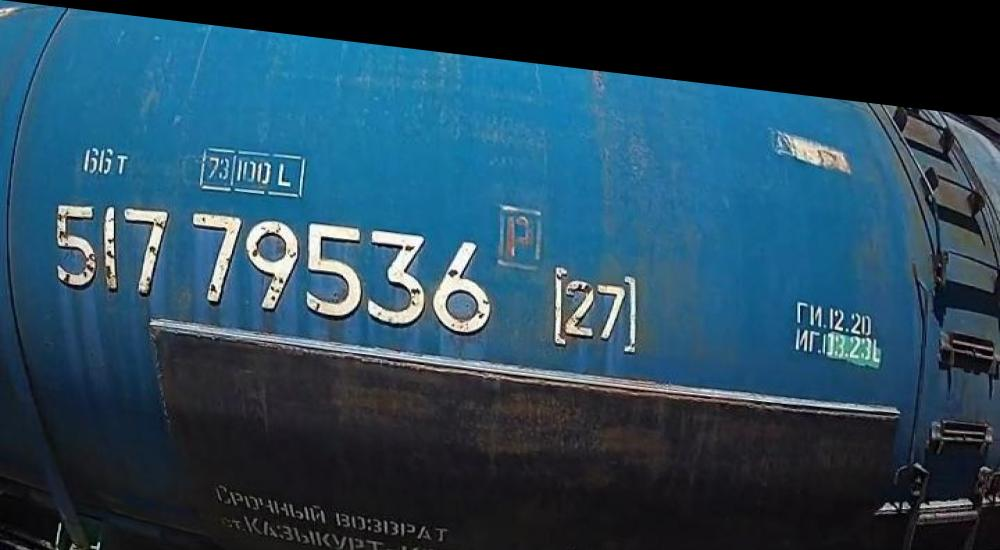Wagon-number: (51, 183, 496, 334)
